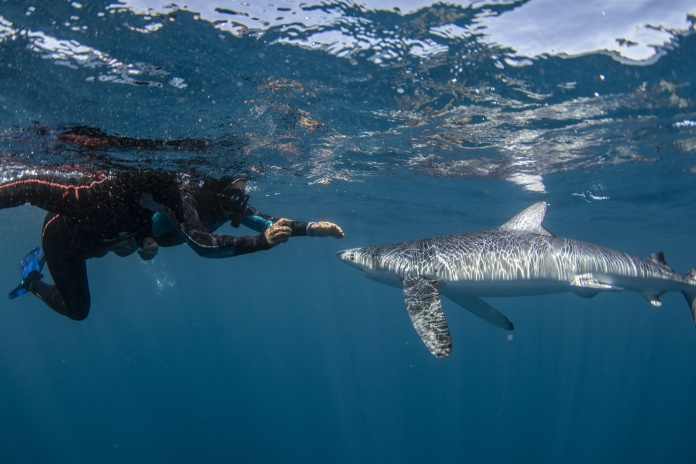Azul: (323, 180, 696, 382)
